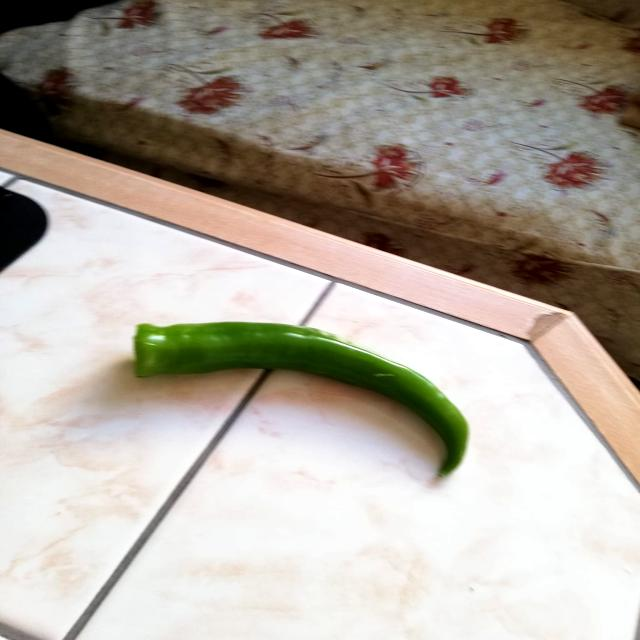green pepper: (128, 314, 471, 481)
